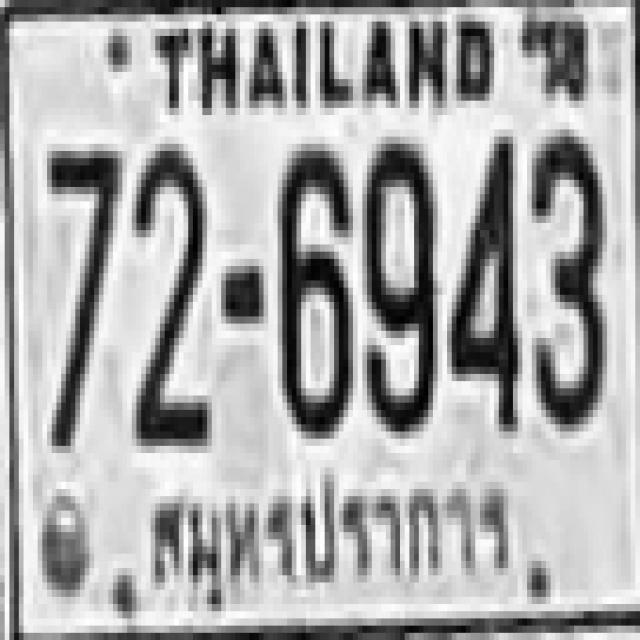2: (129, 140, 205, 442), (129, 144, 205, 417)
3: (527, 130, 602, 424)
4: (447, 130, 518, 424)
6: (273, 140, 348, 435)
7: (42, 144, 118, 446), (42, 144, 118, 352)
9: (362, 137, 433, 424)
SamutPrakan: (139, 463, 523, 605)
